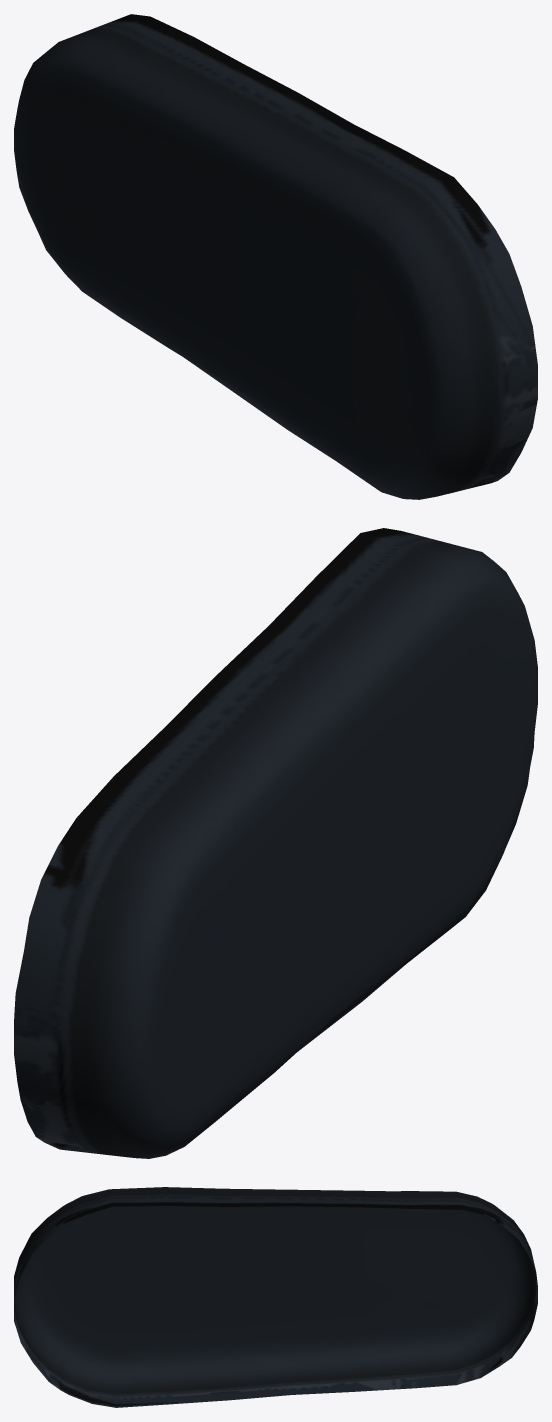
The model's file is right_grip.obj.
The picture shows the model from 3 angles, top to bottom: view 1: azimuth 30°, elevation 25°; view 2: azimuth 150°, elevation 25°; view 3: azimuth 270°, elevation 25°; orthographic projection. The views are drawn at different scales.
Parts seen in each view (by area): view 1: right_grip; view 2: right_grip; view 3: right_grip.
Part boxes in pixels (bbox=[...]): right_grip: bbox=[14, 14, 537, 499]; right_grip: bbox=[14, 528, 537, 1158]; right_grip: bbox=[14, 1187, 537, 1407].
Bounding box in the file's own units: 0.0063 × 0.0128 × 0.0302.
1 material, 1 textured.
